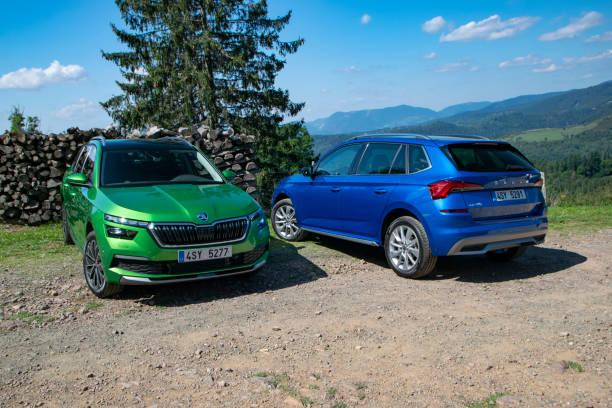skoda: (491, 176, 536, 189), (194, 209, 213, 225)
